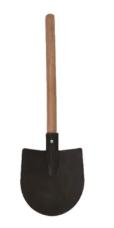PELLE: (16, 5, 94, 225)
